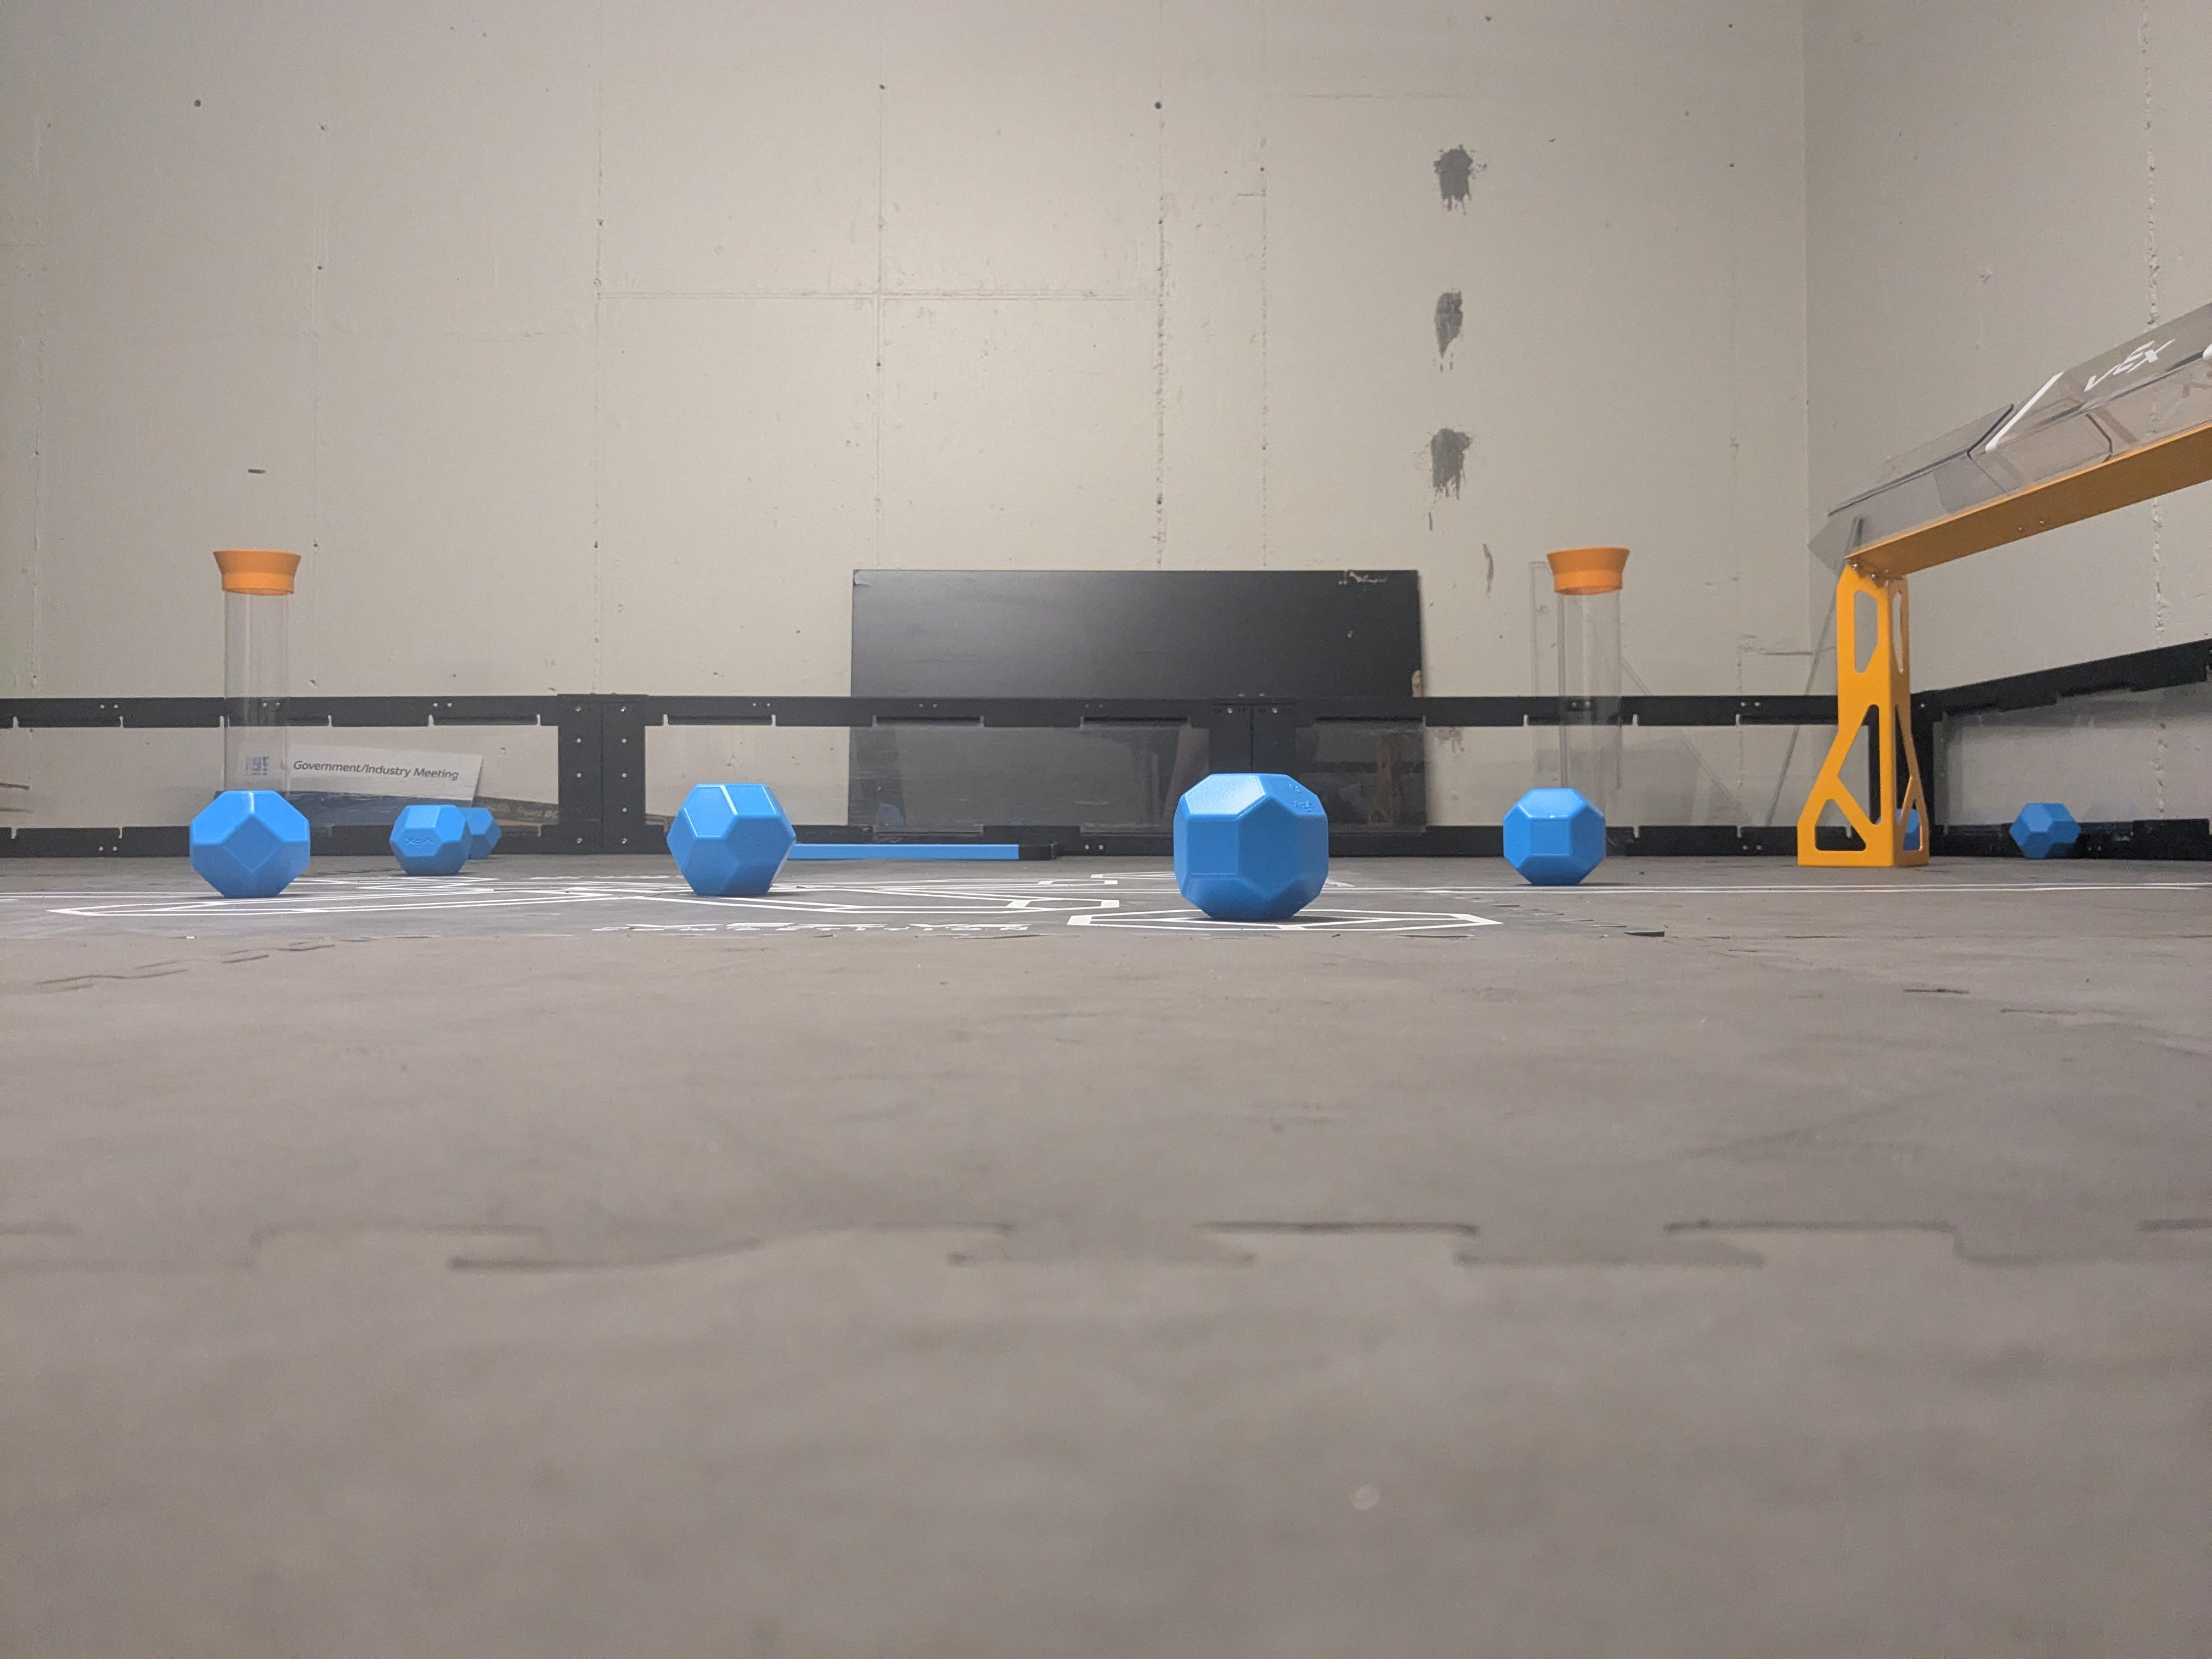Vex-Pieces-BLUE: (1170, 774, 1327, 917), (667, 782, 794, 896), (190, 789, 310, 896), (1503, 788, 1608, 885), (390, 803, 493, 868), (2008, 802, 2080, 859)
